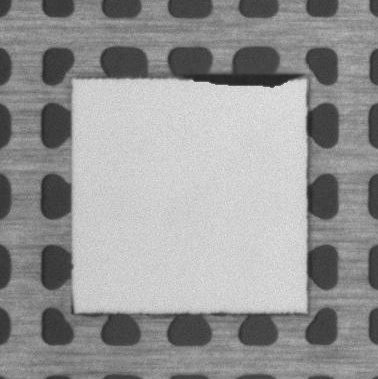DIE_BROKEN: (176, 71, 304, 88)
